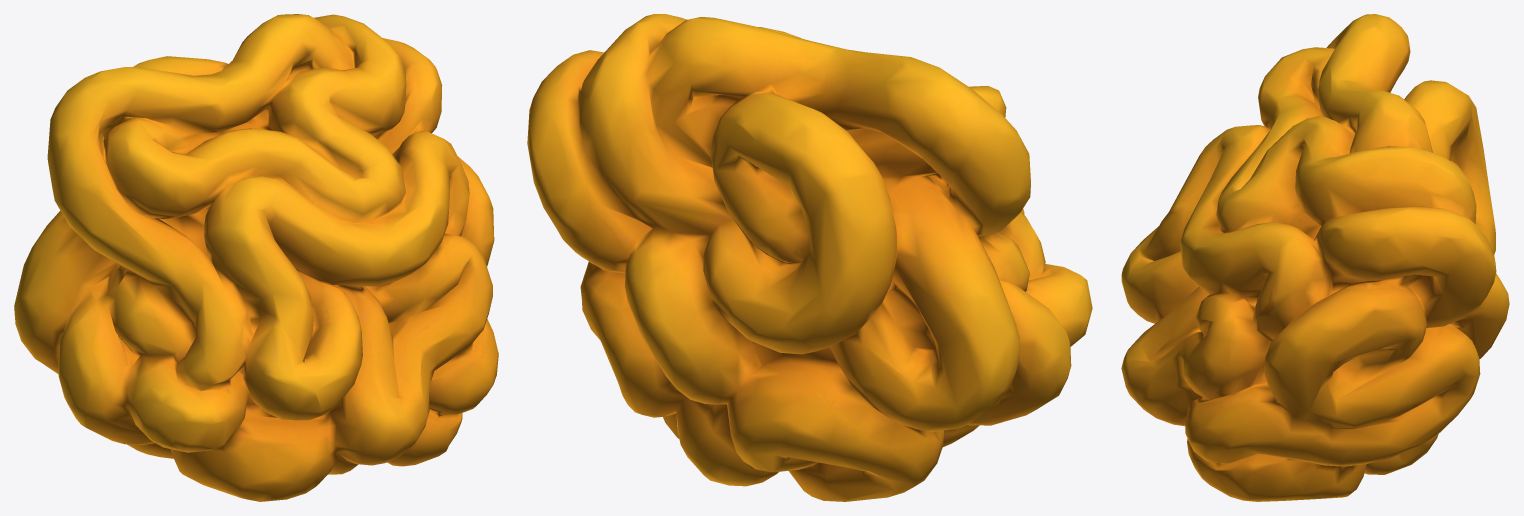
File: delgado.glb
The picture shows the model from 3 angles, left to right: view 1: azimuth 30°, elevation 25°; view 2: azimuth 150°, elevation 25°; view 3: azimuth 270°, elevation 25°; orthographic projection. The views are drawn at different scales.
Visible parts, largest first — view 1: corpo; view 2: corpo; view 3: corpo.
Part boxes in pixels (x1=…): corpo: x1=14, y1=14, x2=498, y2=501; corpo: x1=527, y1=14, x2=1092, y2=501; corpo: x1=1121, y1=14, x2=1509, y2=501.
Size of the model in its own units: 0.9772 by 0.9204 by 0.8236.
Materials: 1 (1 with a texture image).
